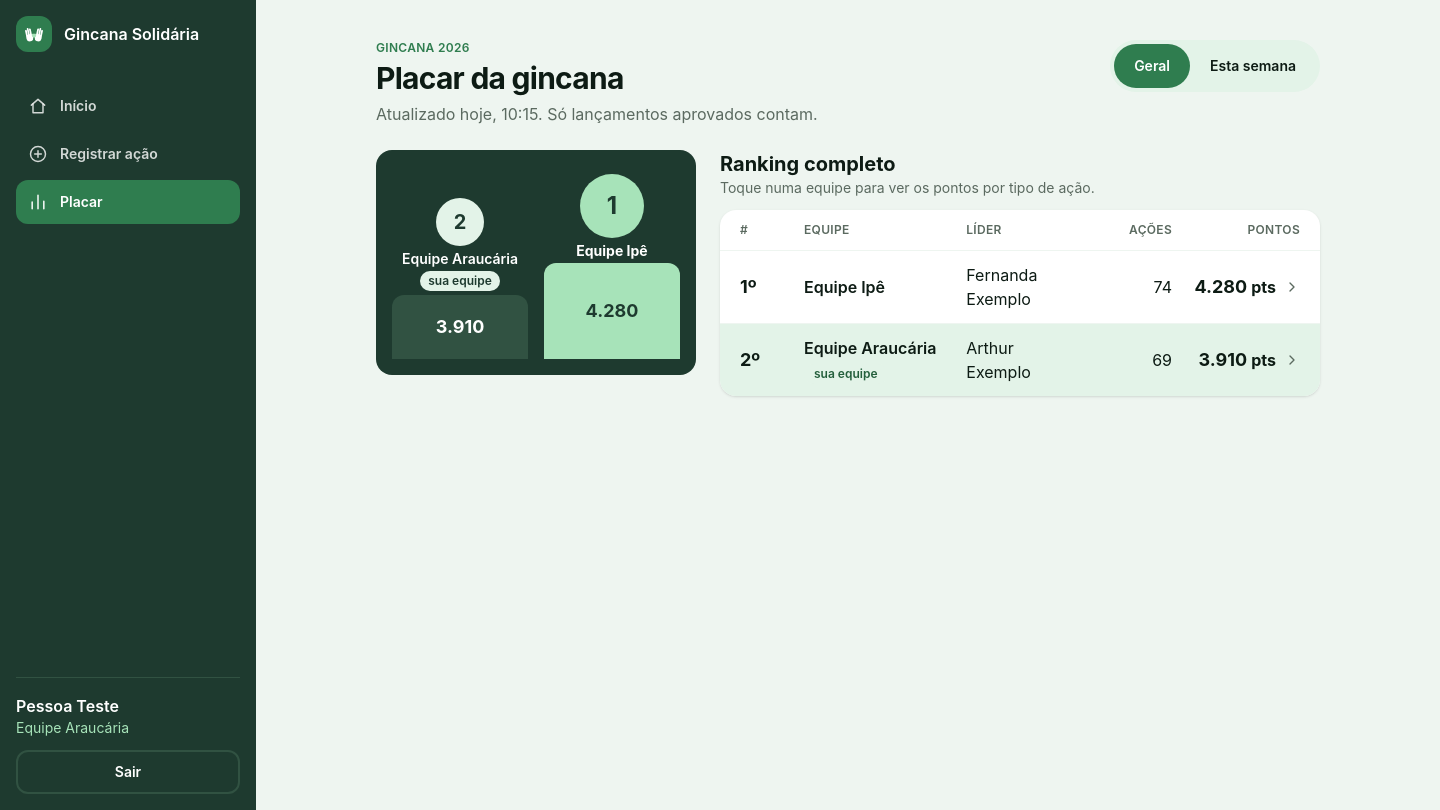
Test: Placar da gincana (US11) › extrato da equipe › abre os pontos por tipo de ação ao tocar na equipe da lista
Click the button "2º Equipe Araucária sua equipe 3.910 pts".
click(870, 348)  # box [720,324,1320,396]
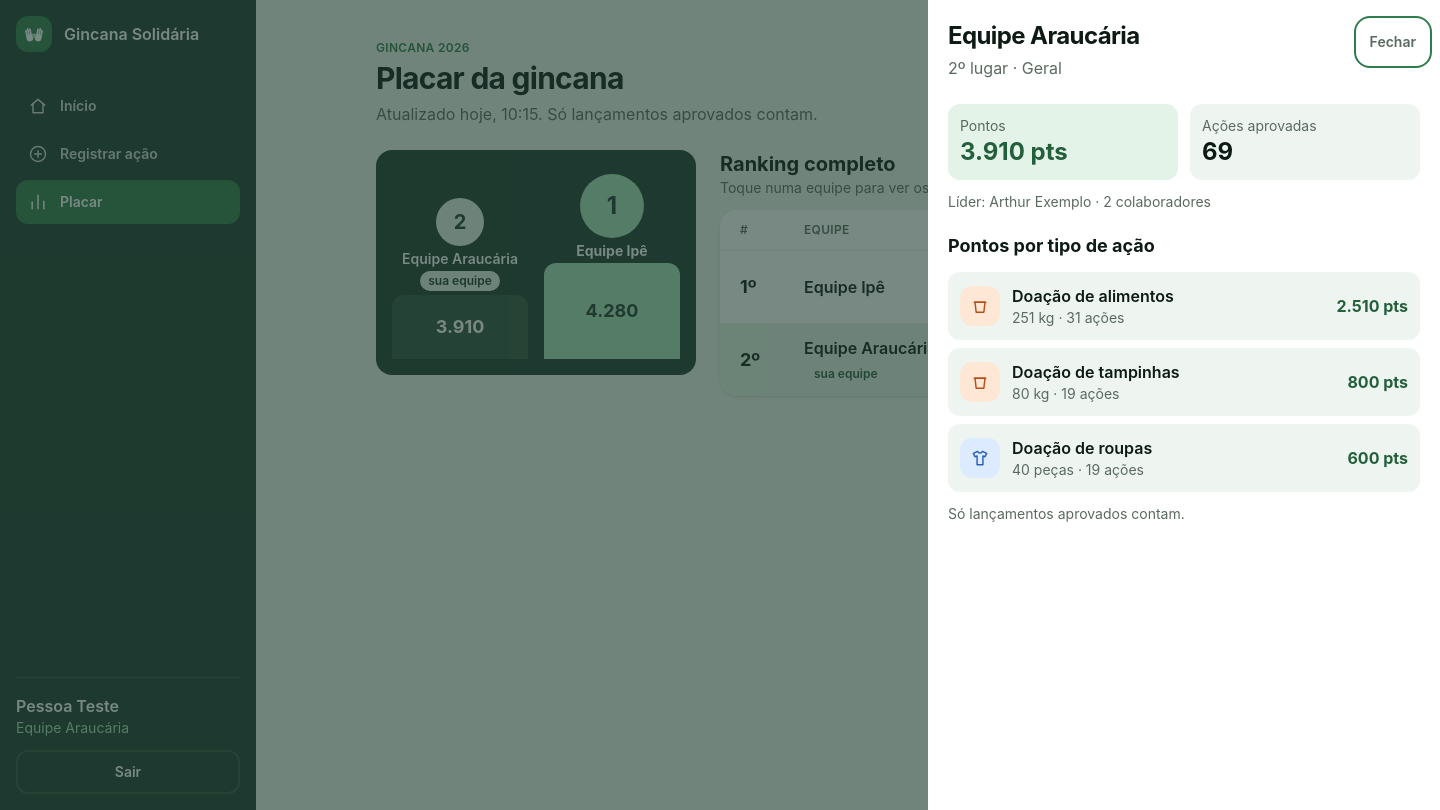
Expected: the text "2º lugar · Geral" is shown, [948,58,1062,78]
Expected: the list item "Doação de alimentos 251 kg · 31 ações 2.510 pts" is shown, [948,272,1420,340]
Expected: the list item "Doação de tampinhas 80 kg · 19 ações 800 pts" is shown, [948,348,1420,416]
